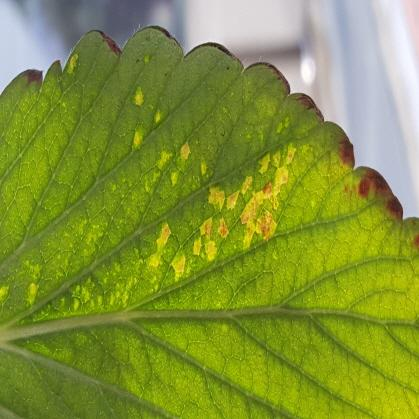Angular Leafspot: (0, 75, 336, 334)
